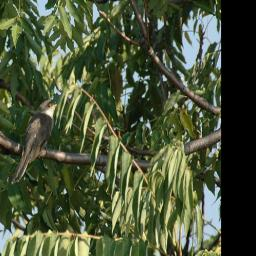Cuckoo: (7, 98, 61, 187)
